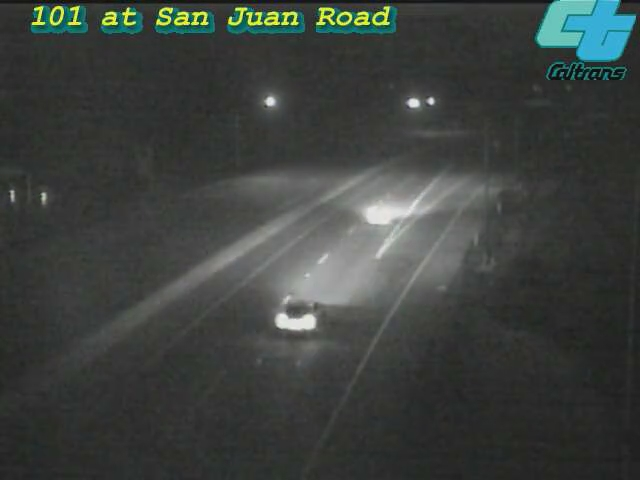vehicle: (339, 176, 419, 256), (262, 274, 342, 354)
